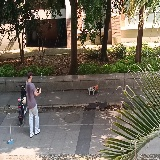fire: (93, 84, 98, 89)
